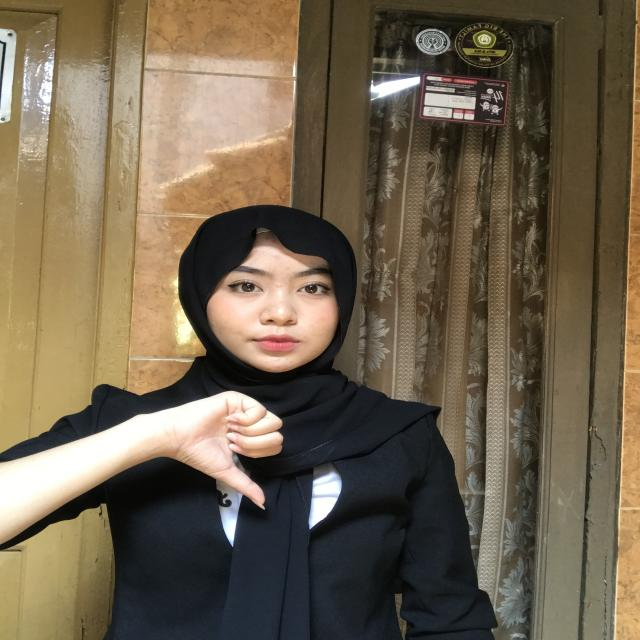sedih: (146, 367, 331, 516)
